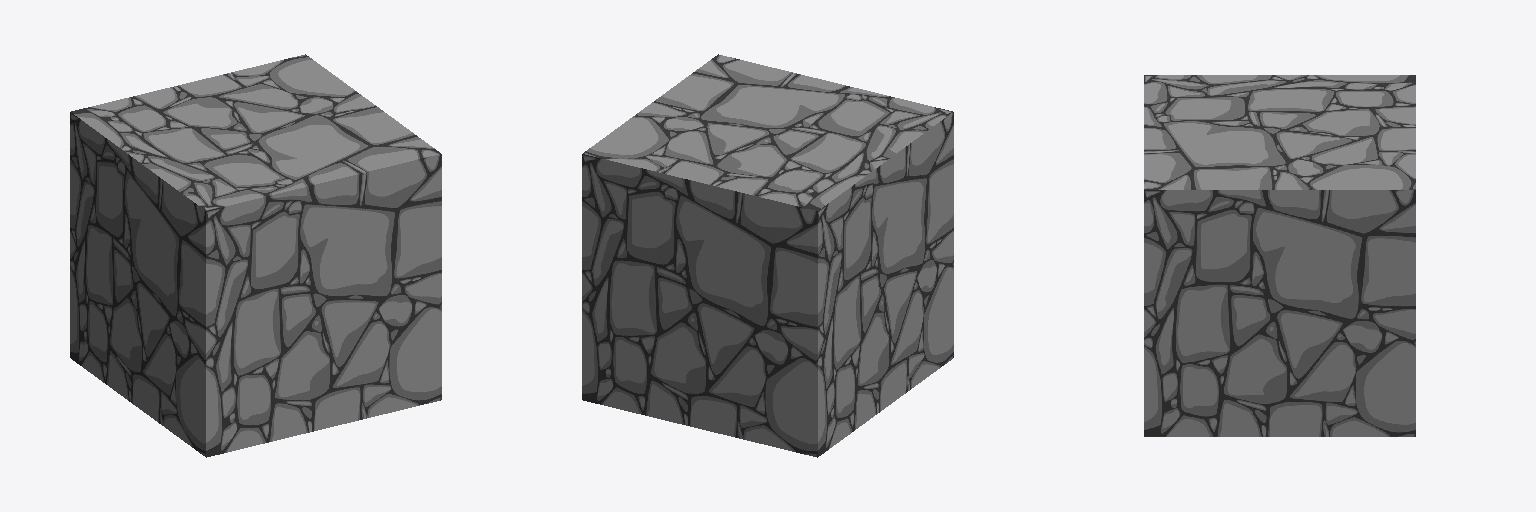
The picture shows the model from 3 angles: view 1: azimuth 30°, elevation 25°; view 2: azimuth 150°, elevation 25°; view 3: azimuth 270°, elevation 25°; orthographic projection.
Visible parts, largest first — view 1: Box001; view 2: Box001; view 3: Box001.
Part boxes in pixels (x1,y1,x2,y2): Box001: (70, 54, 441, 457); Box001: (582, 54, 953, 457); Box001: (1144, 75, 1415, 436).
Size of the model in its own units: 1 by 1 by 1.
1 materials, 1 textured.